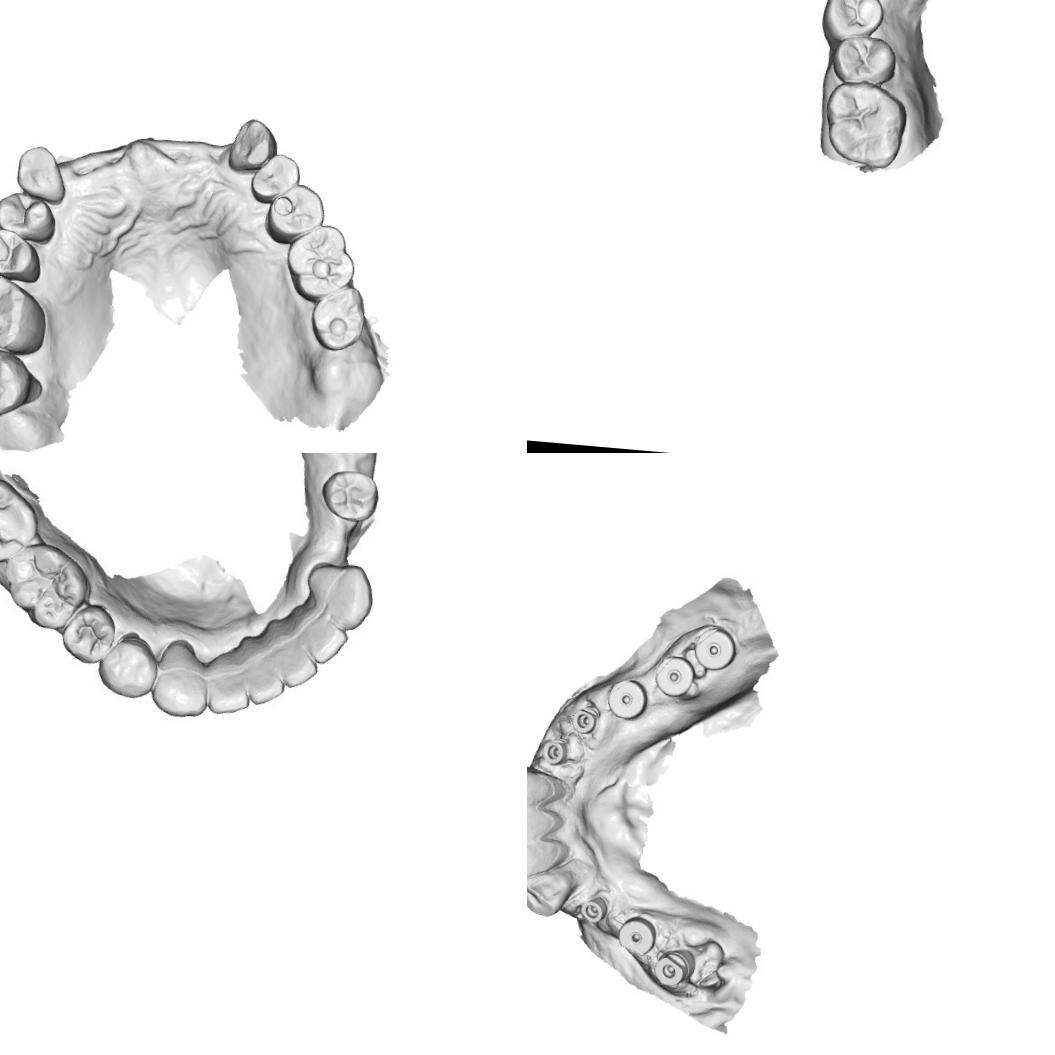canine: (148, 635, 213, 722), (301, 560, 378, 632), (11, 142, 70, 206), (224, 114, 280, 176)
implant: (690, 623, 738, 673), (651, 652, 697, 699), (604, 675, 650, 722), (650, 944, 697, 990), (616, 912, 659, 958), (578, 893, 610, 926), (536, 736, 571, 766), (570, 702, 600, 736)
incisor: (202, 657, 252, 717), (527, 865, 577, 919), (527, 762, 575, 814), (302, 620, 348, 666), (527, 836, 570, 883), (276, 645, 320, 690), (248, 664, 286, 709), (527, 804, 565, 849)
molar: (0, 536, 94, 634), (822, 80, 907, 167), (280, 219, 359, 307), (304, 280, 377, 353), (0, 270, 51, 357), (0, 469, 44, 568), (0, 341, 46, 422)
premolar: (262, 178, 328, 248), (92, 633, 156, 700), (316, 465, 382, 525), (58, 598, 116, 666), (829, 32, 896, 86), (0, 188, 59, 245), (247, 150, 303, 206), (818, 0, 888, 42), (0, 225, 44, 285)
